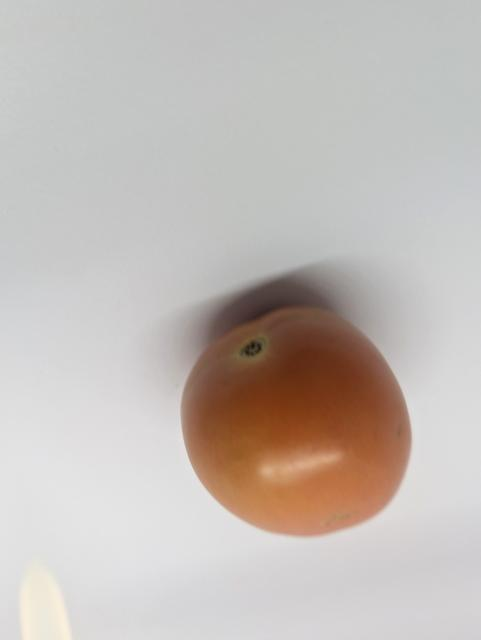turning: (164, 299, 432, 550)
